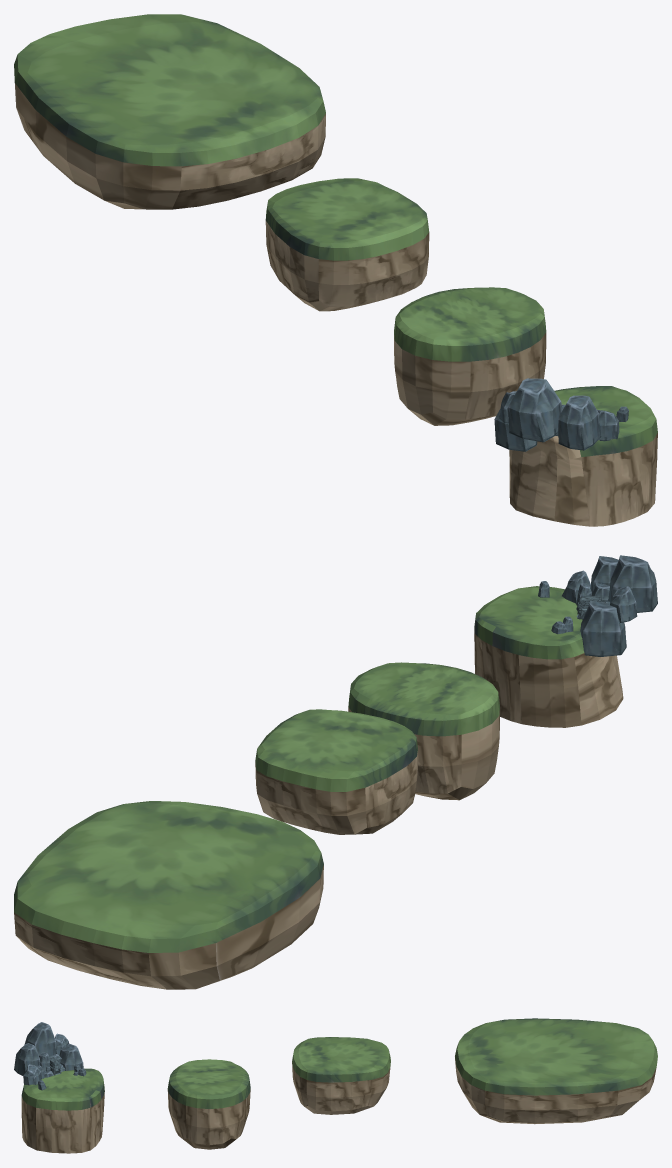
3 renders of one model, top to bottom at view 1: azimuth 30°, elevation 25°; view 2: azimuth 150°, elevation 25°; view 3: azimuth 270°, elevation 25°, orthographic. The views are drawn at different scales.
Visible parts, largest first — view 1: 地板, 石頭; view 2: 地板, 石頭; view 3: 地板, 石頭.
Part boxes in pixels (left/top/right/bottom): 地板: left=14, top=14, right=657, bottom=526; 石頭: left=494, top=378, right=628, bottom=451; 地板: left=14, top=586, right=623, bottom=989; 石頭: left=538, top=555, right=657, bottom=656; 地板: left=21, top=1018, right=657, bottom=1153; 石頭: left=14, top=1022, right=86, bottom=1090.
Bounding box in the file's own units: 4764 × 2816 × 18331.
4 materials, 4 textured.
